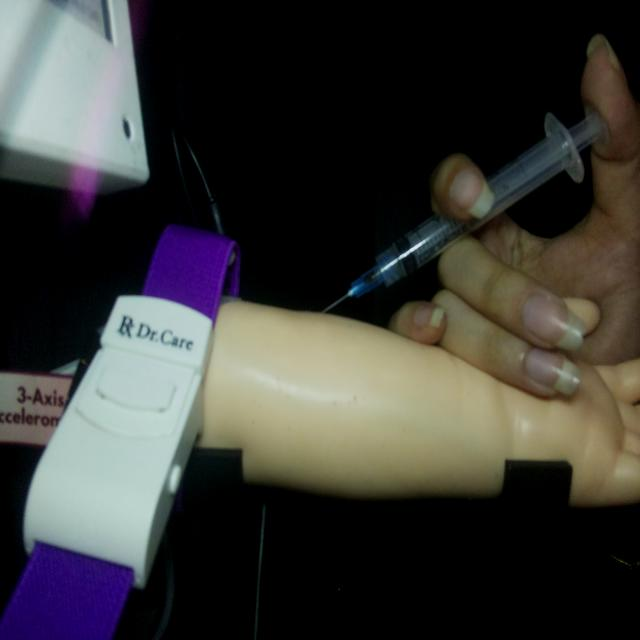23 degrees: (320, 104, 610, 316)
